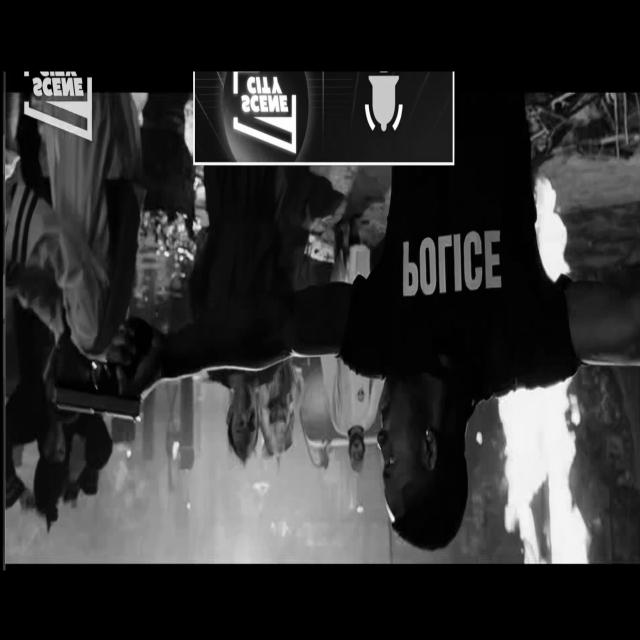weapons: (47, 307, 163, 437)
